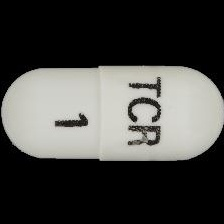55154-2675: (0, 0, 224, 224)
